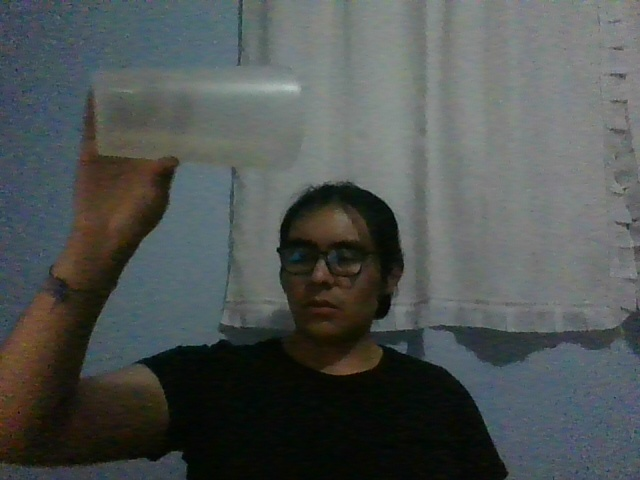vaso: (93, 65, 304, 171)
